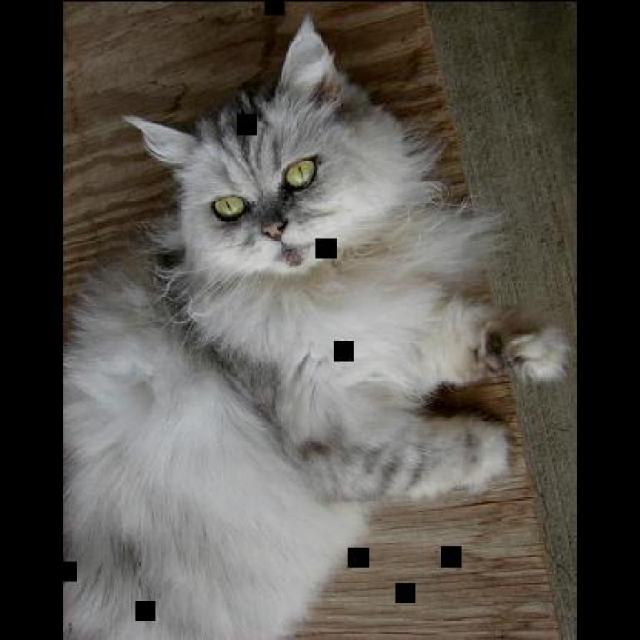unauthorized: (62, 12, 569, 638)
